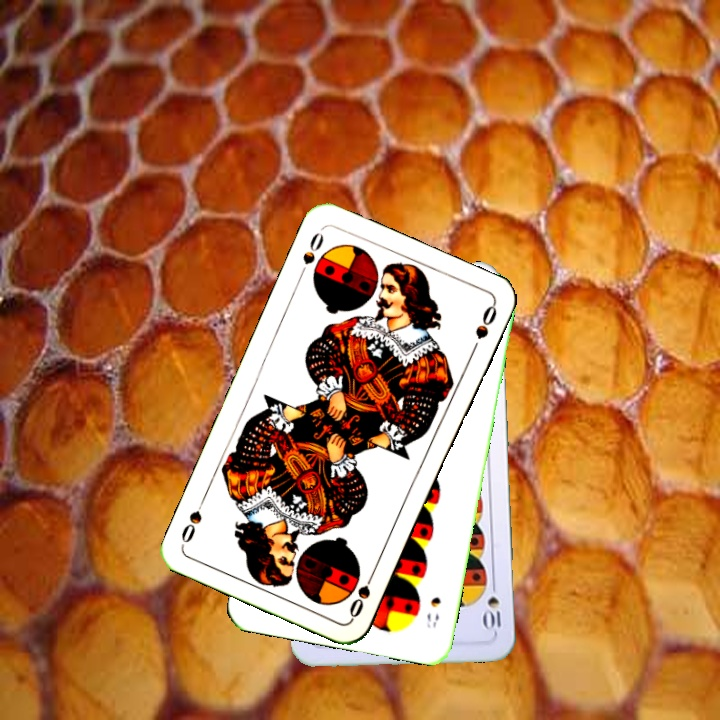S10: (481, 576, 503, 635)
S8: (422, 592, 444, 630)
SO: (345, 565, 379, 621), (295, 228, 327, 281)
